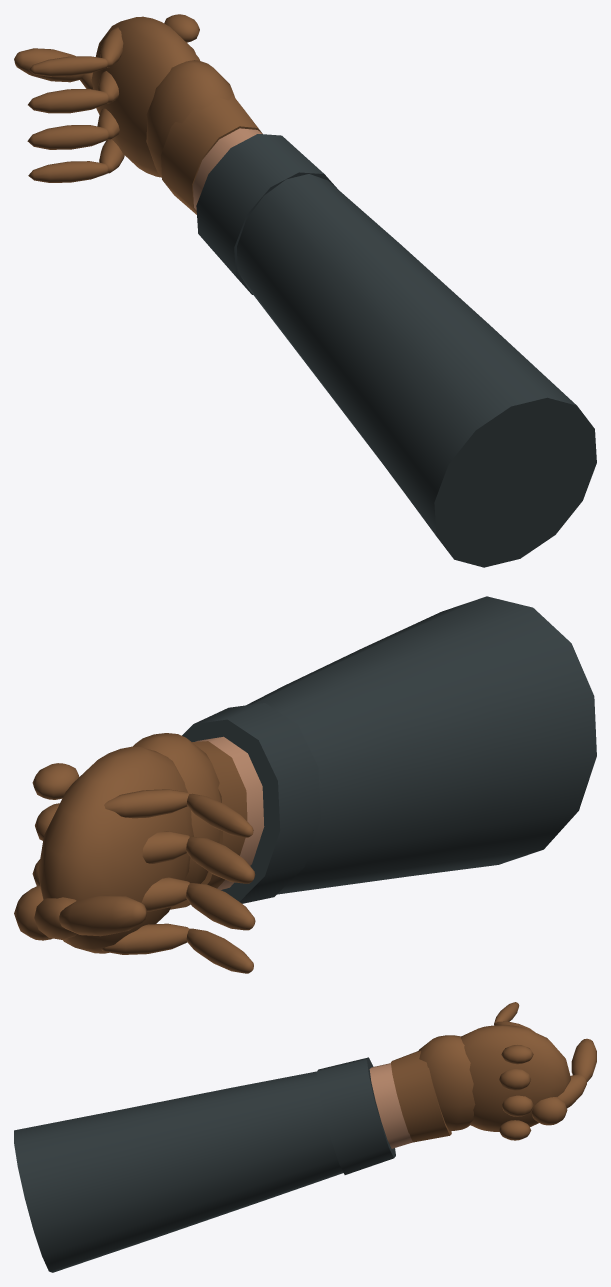
File: fp_hand_right.glb
3 renders of one model, top to bottom at view 1: azimuth 30°, elevation 25°; view 2: azimuth 150°, elevation 25°; view 3: azimuth 270°, elevation 25°, orthographic. The views are drawn at different scales.
Parts seen in each view (by area): view 1: fp_hand_right; view 2: fp_hand_right; view 3: fp_hand_right.
Part boxes in pixels (box(x1,y1,x2,y2)): fp_hand_right: box(14, 14, 596, 567); fp_hand_right: box(14, 596, 596, 973); fp_hand_right: box(14, 1002, 596, 1272).
Size of the model in its own units: 0.1543 by 0.2014 by 0.4672.
